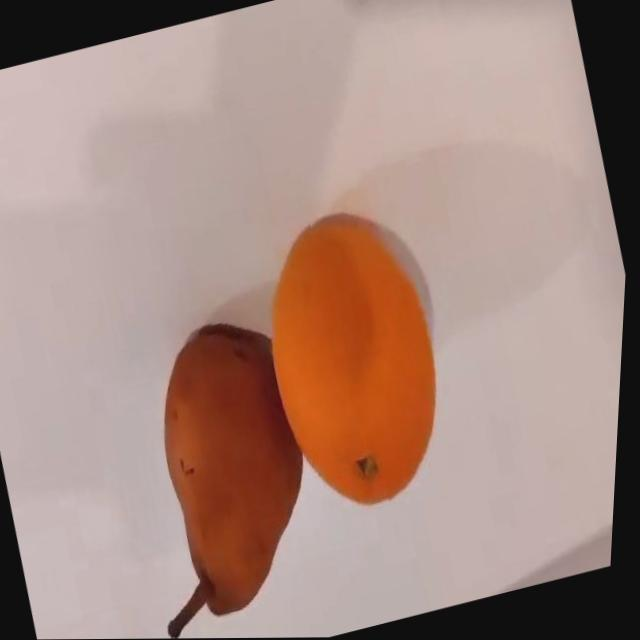Orange: (237, 197, 477, 525)
